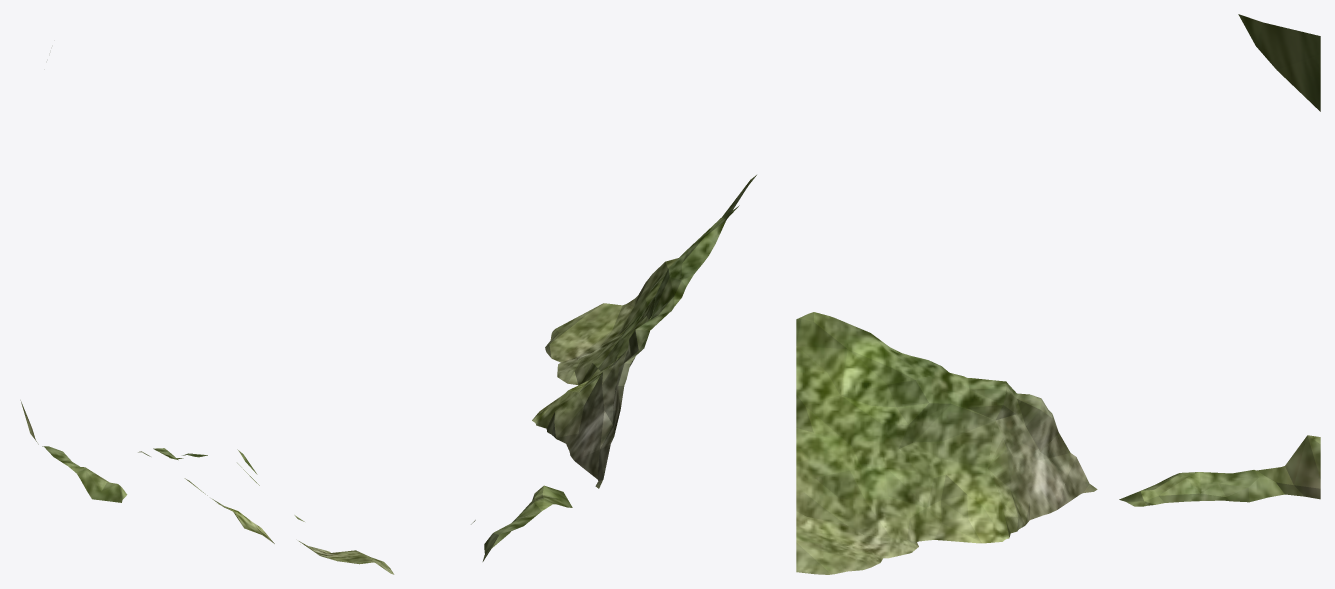
3 views of the same model, side by side, from view 1: azimuth 30°, elevation 25°; view 2: azimuth 150°, elevation 25°; view 3: azimuth 270°, elevation 25° (orthographic). The views are drawn at different scales.
Bounding box in the file's own units: 1.14 × 2.95 × 2.95.
Materials: 1 (1 with a texture image).
